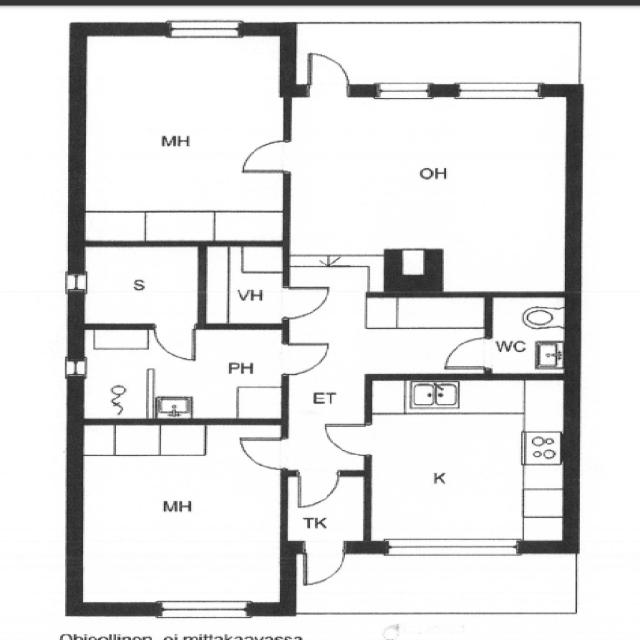door: (286, 467, 363, 546), (230, 134, 297, 180), (270, 278, 336, 324), (273, 336, 337, 380), (300, 48, 358, 96), (437, 333, 501, 373), (319, 419, 378, 461), (320, 260, 380, 300), (147, 321, 200, 366), (233, 432, 291, 472), (301, 543, 348, 588), (292, 469, 344, 509)
window: (378, 533, 524, 563), (158, 12, 248, 44), (447, 77, 550, 104), (152, 597, 256, 621), (368, 78, 440, 102), (58, 270, 89, 304), (58, 356, 88, 390)
zone: (286, 87, 577, 281), (80, 26, 290, 243), (75, 419, 289, 611), (364, 378, 569, 552), (75, 326, 288, 422), (76, 244, 202, 328), (202, 242, 288, 326), (76, 326, 150, 419), (486, 293, 566, 375), (284, 472, 366, 550)
